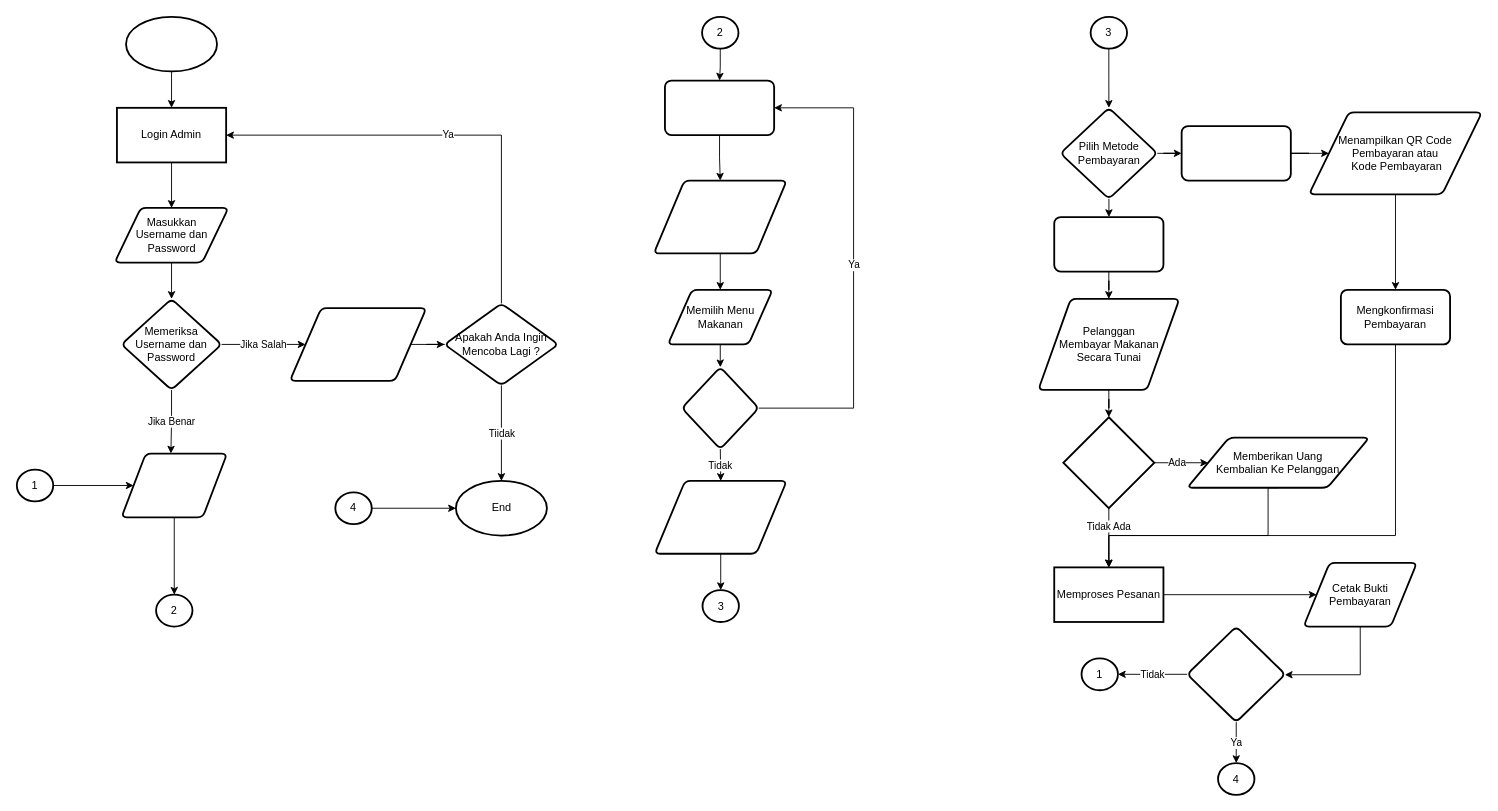
This 1498x811 diagram has some shape labels left out. Each missing label, with the centre of its shape:
"Apakah Ada Kembalian ?" belongs at point (1108, 462).
"Apakah ada lagi?" belongs at point (719, 408).
"Apakah anda ingin keluar" belongs at point (1236, 674).
"Menampilkan Halaman Depan" belongs at point (174, 485).
"Menampilkan Menu Makanan Dilayar Depan" belongs at point (719, 216).
"Menampilkan Pop Up Password / Username Salah" belongs at point (357, 344).
"Menampilkan Total Harga Makanan" belongs at point (720, 517).
"Non Tunai" belongs at point (1235, 153).
"Pelangan memilih menu makanan" belongs at point (719, 107).
"Start" belongs at point (171, 43).
"Tunai" belongs at point (1108, 244).
